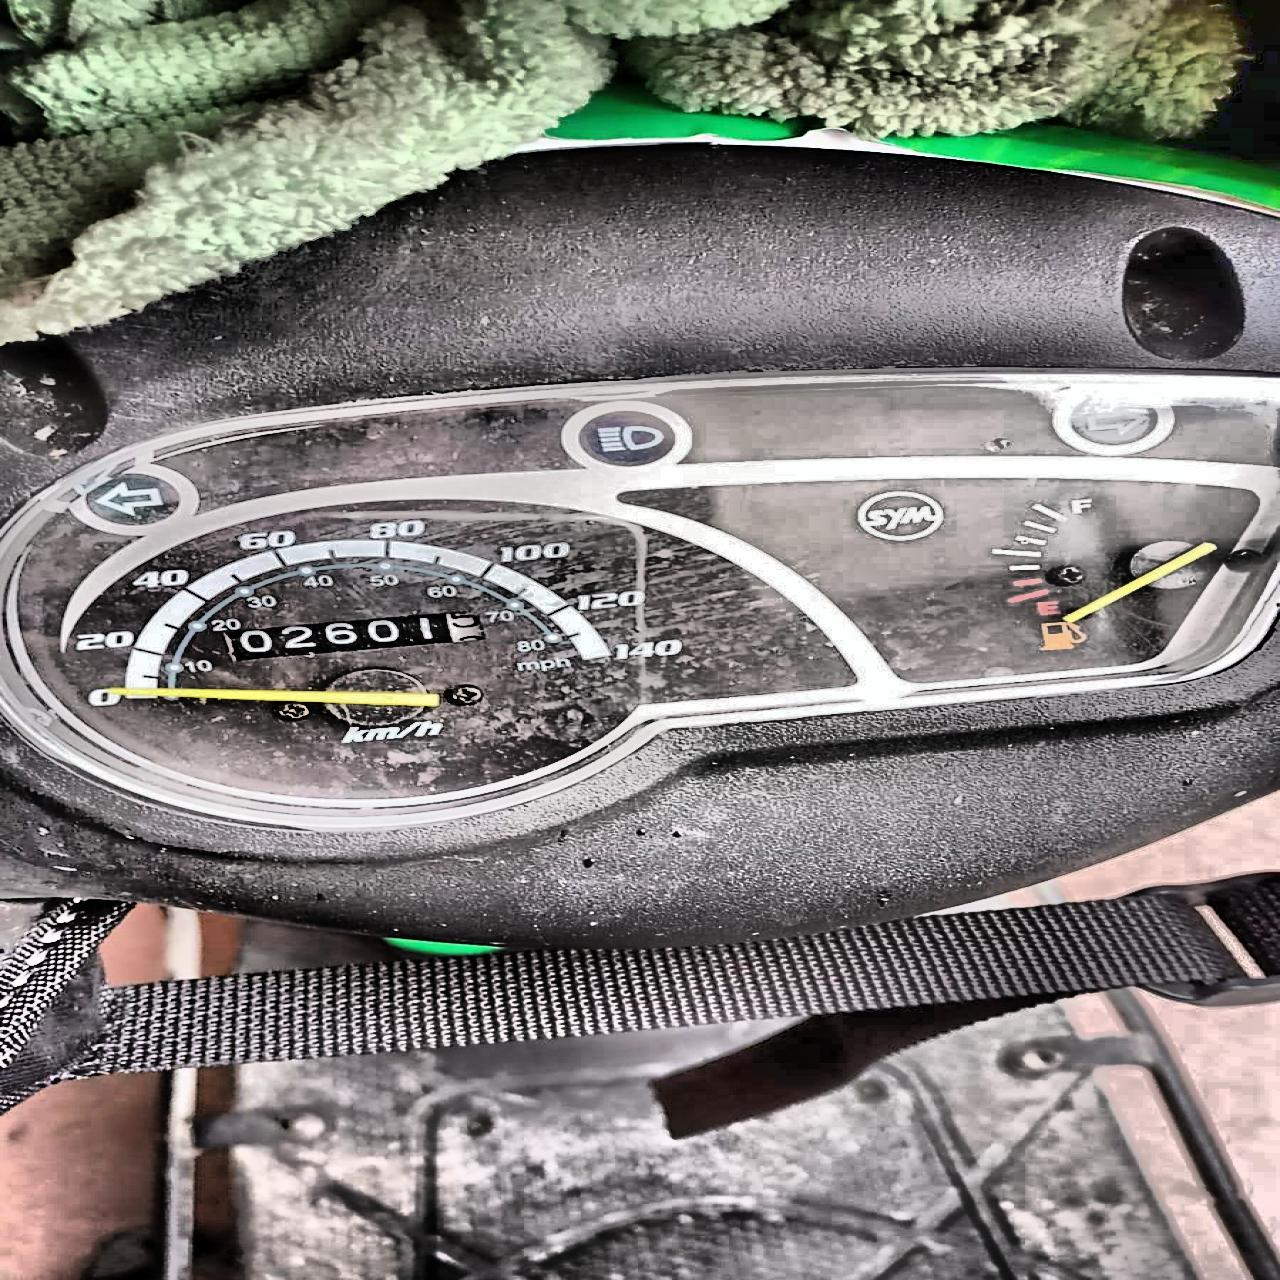0: (366, 616, 401, 644), (238, 630, 275, 656), (224, 615, 239, 631)
1: (412, 612, 438, 646)
2: (278, 623, 318, 649)
5: (450, 608, 480, 632)
6: (324, 618, 362, 644)
odometer: (222, 608, 487, 664)
